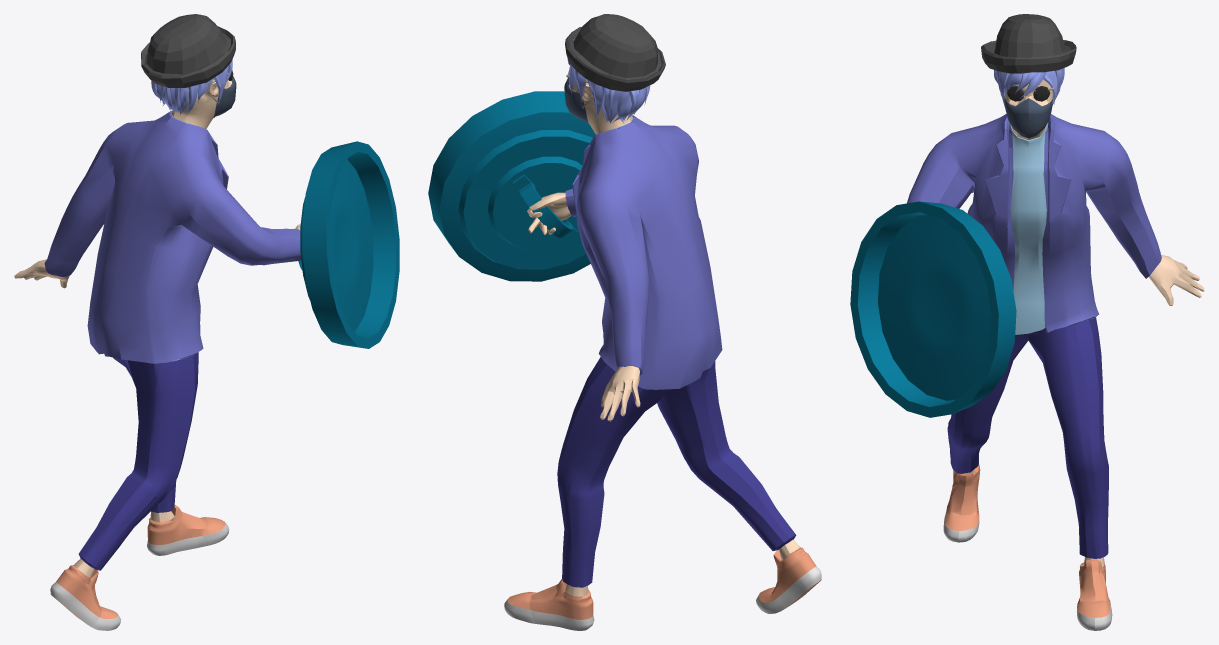
Rendered from Mahler.fbx.
3 renders of one model, left to right at view 1: azimuth 30°, elevation 25°; view 2: azimuth 150°, elevation 25°; view 3: azimuth 270°, elevation 25°, orthographic. The views are drawn at different scales.
Visible parts, largest first — view 1: Malher_low, TrashCanLid:Lid_low, Hat_low, Hari_low; view 2: Malher_low, TrashCanLid:Lid_low, Hat_low, Hari_low, TrashCanLid:Handle_low; view 3: Malher_low, TrashCanLid:Lid_low, Hat_low, Hari_low.
Boxes of the visible parts, x1,y1,x2,y2 form: Malher_low: (14, 76, 301, 630); TrashCanLid:Lid_low: (300, 141, 399, 348); Hat_low: (141, 14, 235, 87); Hari_low: (151, 59, 232, 114); Malher_low: (504, 79, 821, 630); TrashCanLid:Lid_low: (428, 91, 595, 281); Hat_low: (565, 14, 665, 91); Hari_low: (567, 39, 650, 123); TrashCanLid:Handle_low: (512, 174, 578, 240); Malher_low: (907, 79, 1204, 630); TrashCanLid:Lid_low: (850, 201, 1016, 417); Hat_low: (981, 14, 1076, 73); Hari_low: (994, 68, 1064, 107).
Size of the model in its own units: 124 by 185 by 102.
